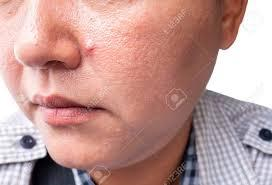Oily-Skin: (34, 12, 222, 144)
acne marks: (72, 29, 101, 62)
